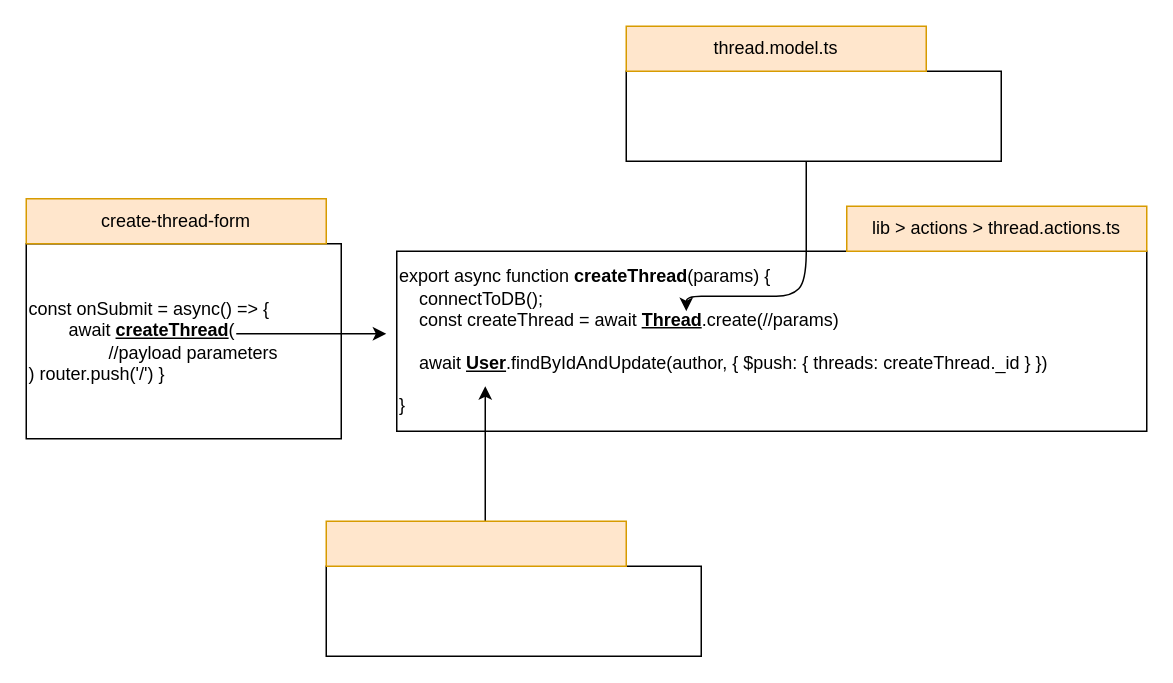
Some shapes in this 1173 by 683 pixel diagram are drawn without their labels. Here are the shapes that lost their labels. From the top down, the centre of each, then its label:
(813,115): const Thread = mongoose.models.Thread
(475,543): user.model.ts
(513,610): const User = mongoose.models.User
